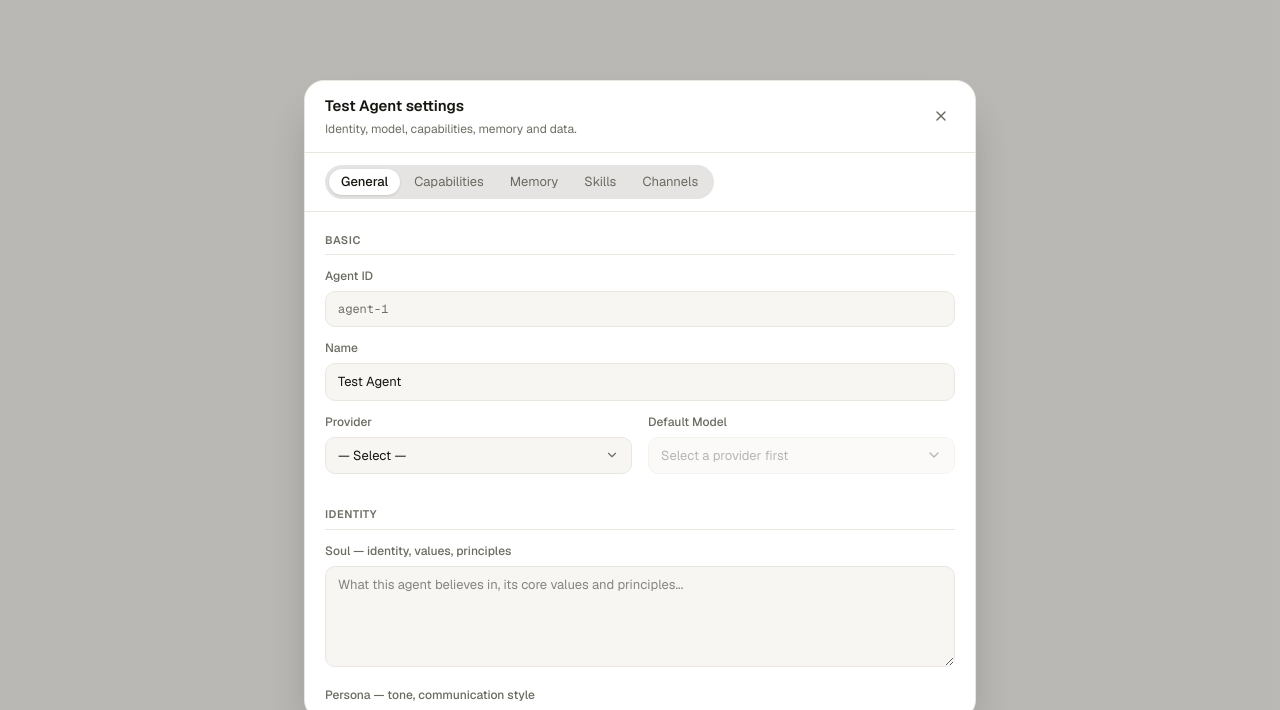
Test: SettingsOverlay capabilities › loads the full agent config when opened from a lightweight agent list
Click the button "Capabilities". click: x=449, y=182
box: [402,168,496,194]
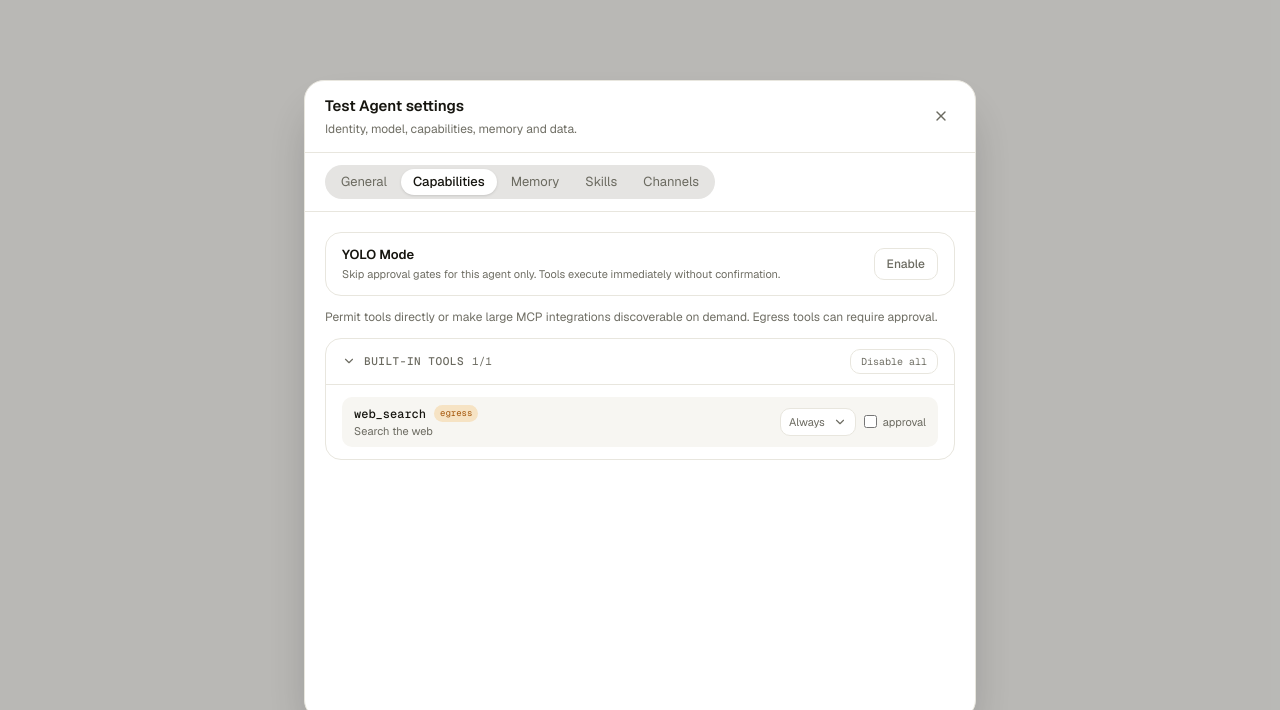
Expected: the checkbox labelled "approval" is not checked, [864,415,877,428]
